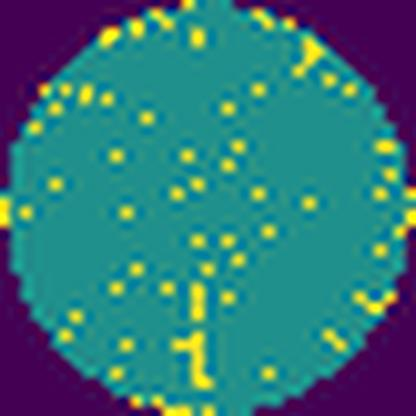Scratch: (170, 281, 218, 391)
